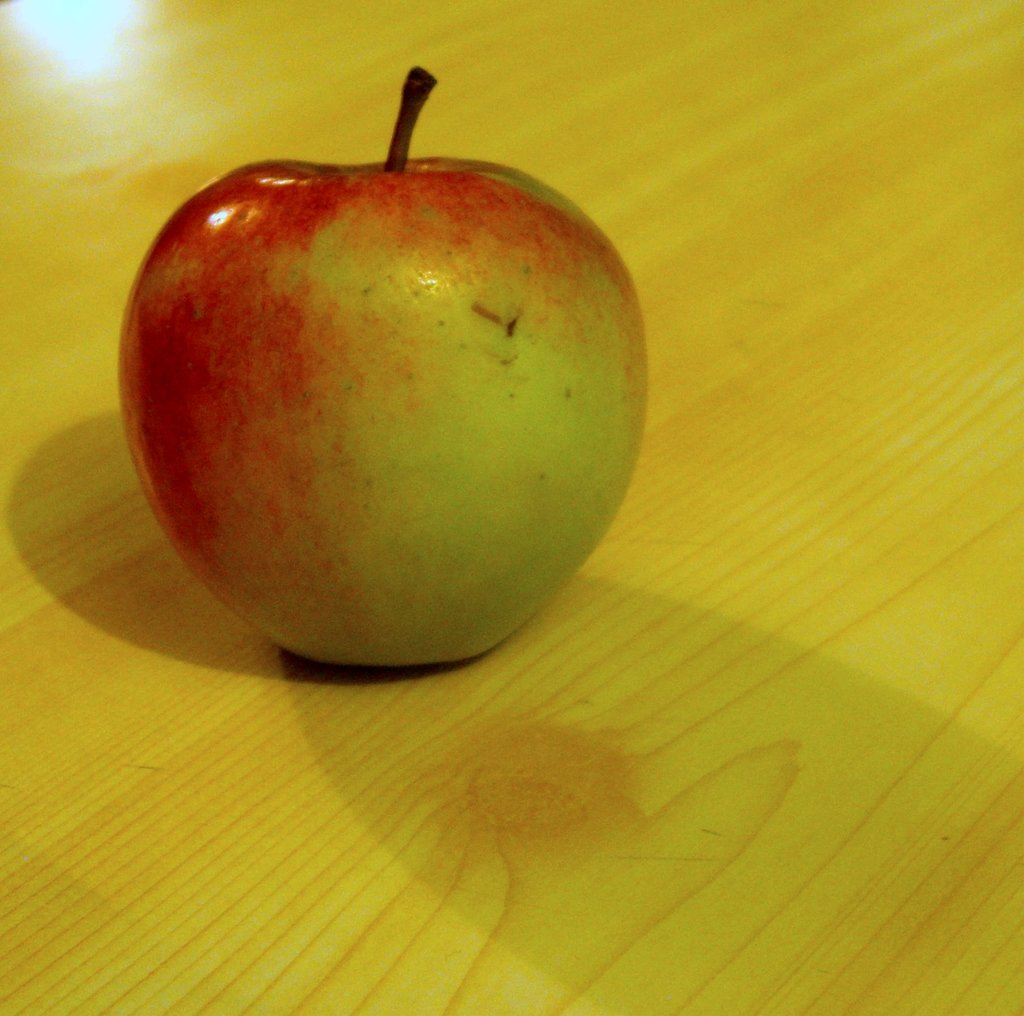Apple: (121, 78, 627, 710)
